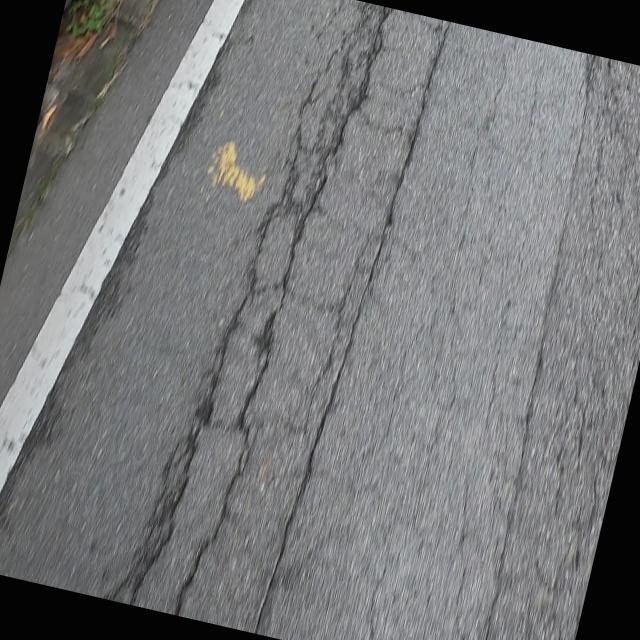Retak-Buaya: (109, 0, 382, 615), (488, 54, 640, 640)
Retak-Memanjang: (252, 20, 454, 634)
